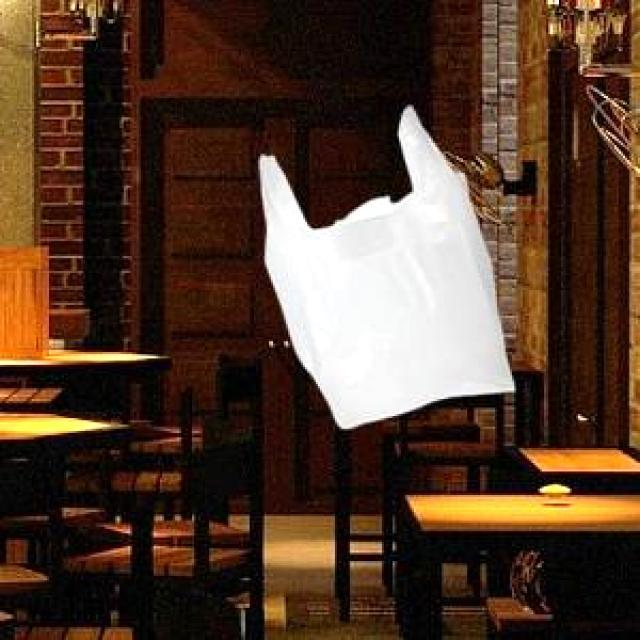Plastic_Bag: (257, 103, 511, 426)
